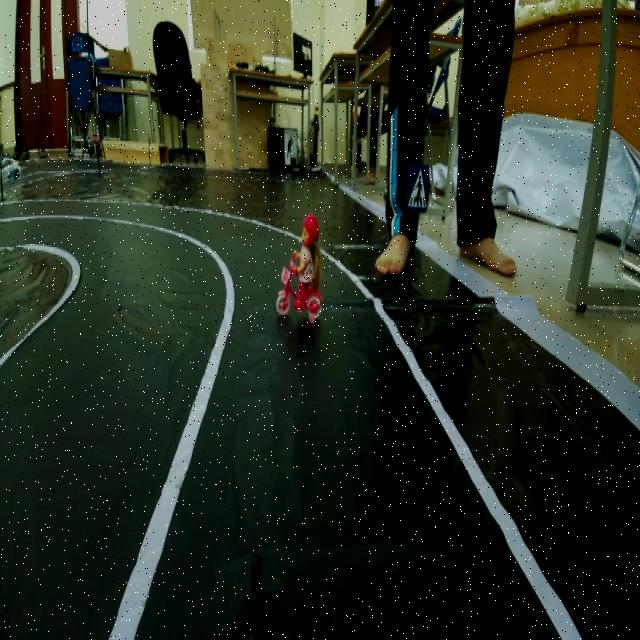crosswalk: (404, 158, 434, 224)
pedestrian: (267, 219, 325, 312)
